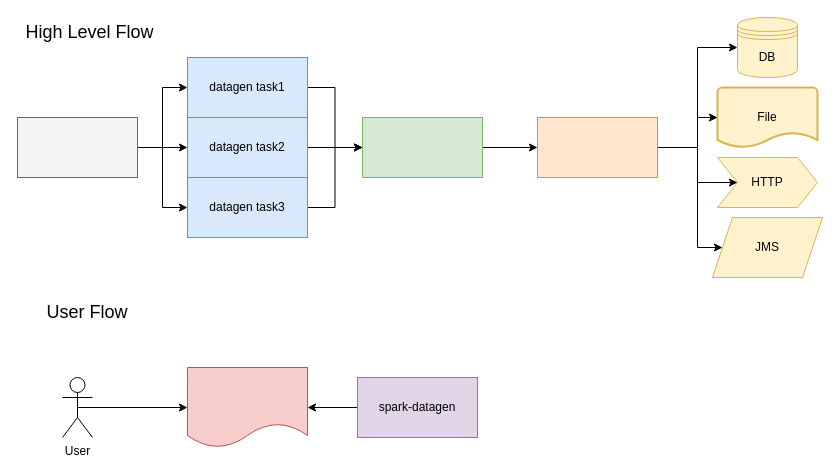
The diagram is 840 pixels wide and 476 high, and some of its shapes have lost their labels. Here are the shapes that lost their labels. From the top down, the box of each, then its label:
(16, 116, 138, 178): datagen plan
(362, 116, 482, 178): data generator
(536, 116, 658, 178): sink factory
(186, 366, 308, 448): YAML
